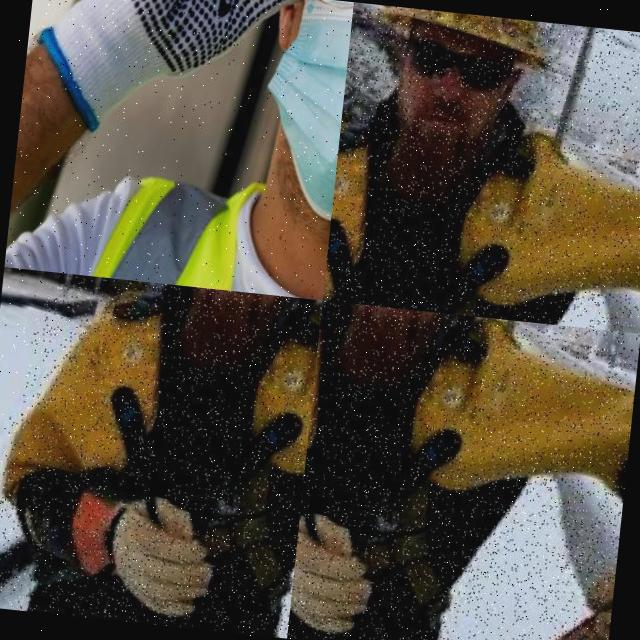helmet: (372, 4, 578, 89)
vest: (287, 300, 640, 640), (0, 267, 322, 627), (322, 77, 640, 333)
